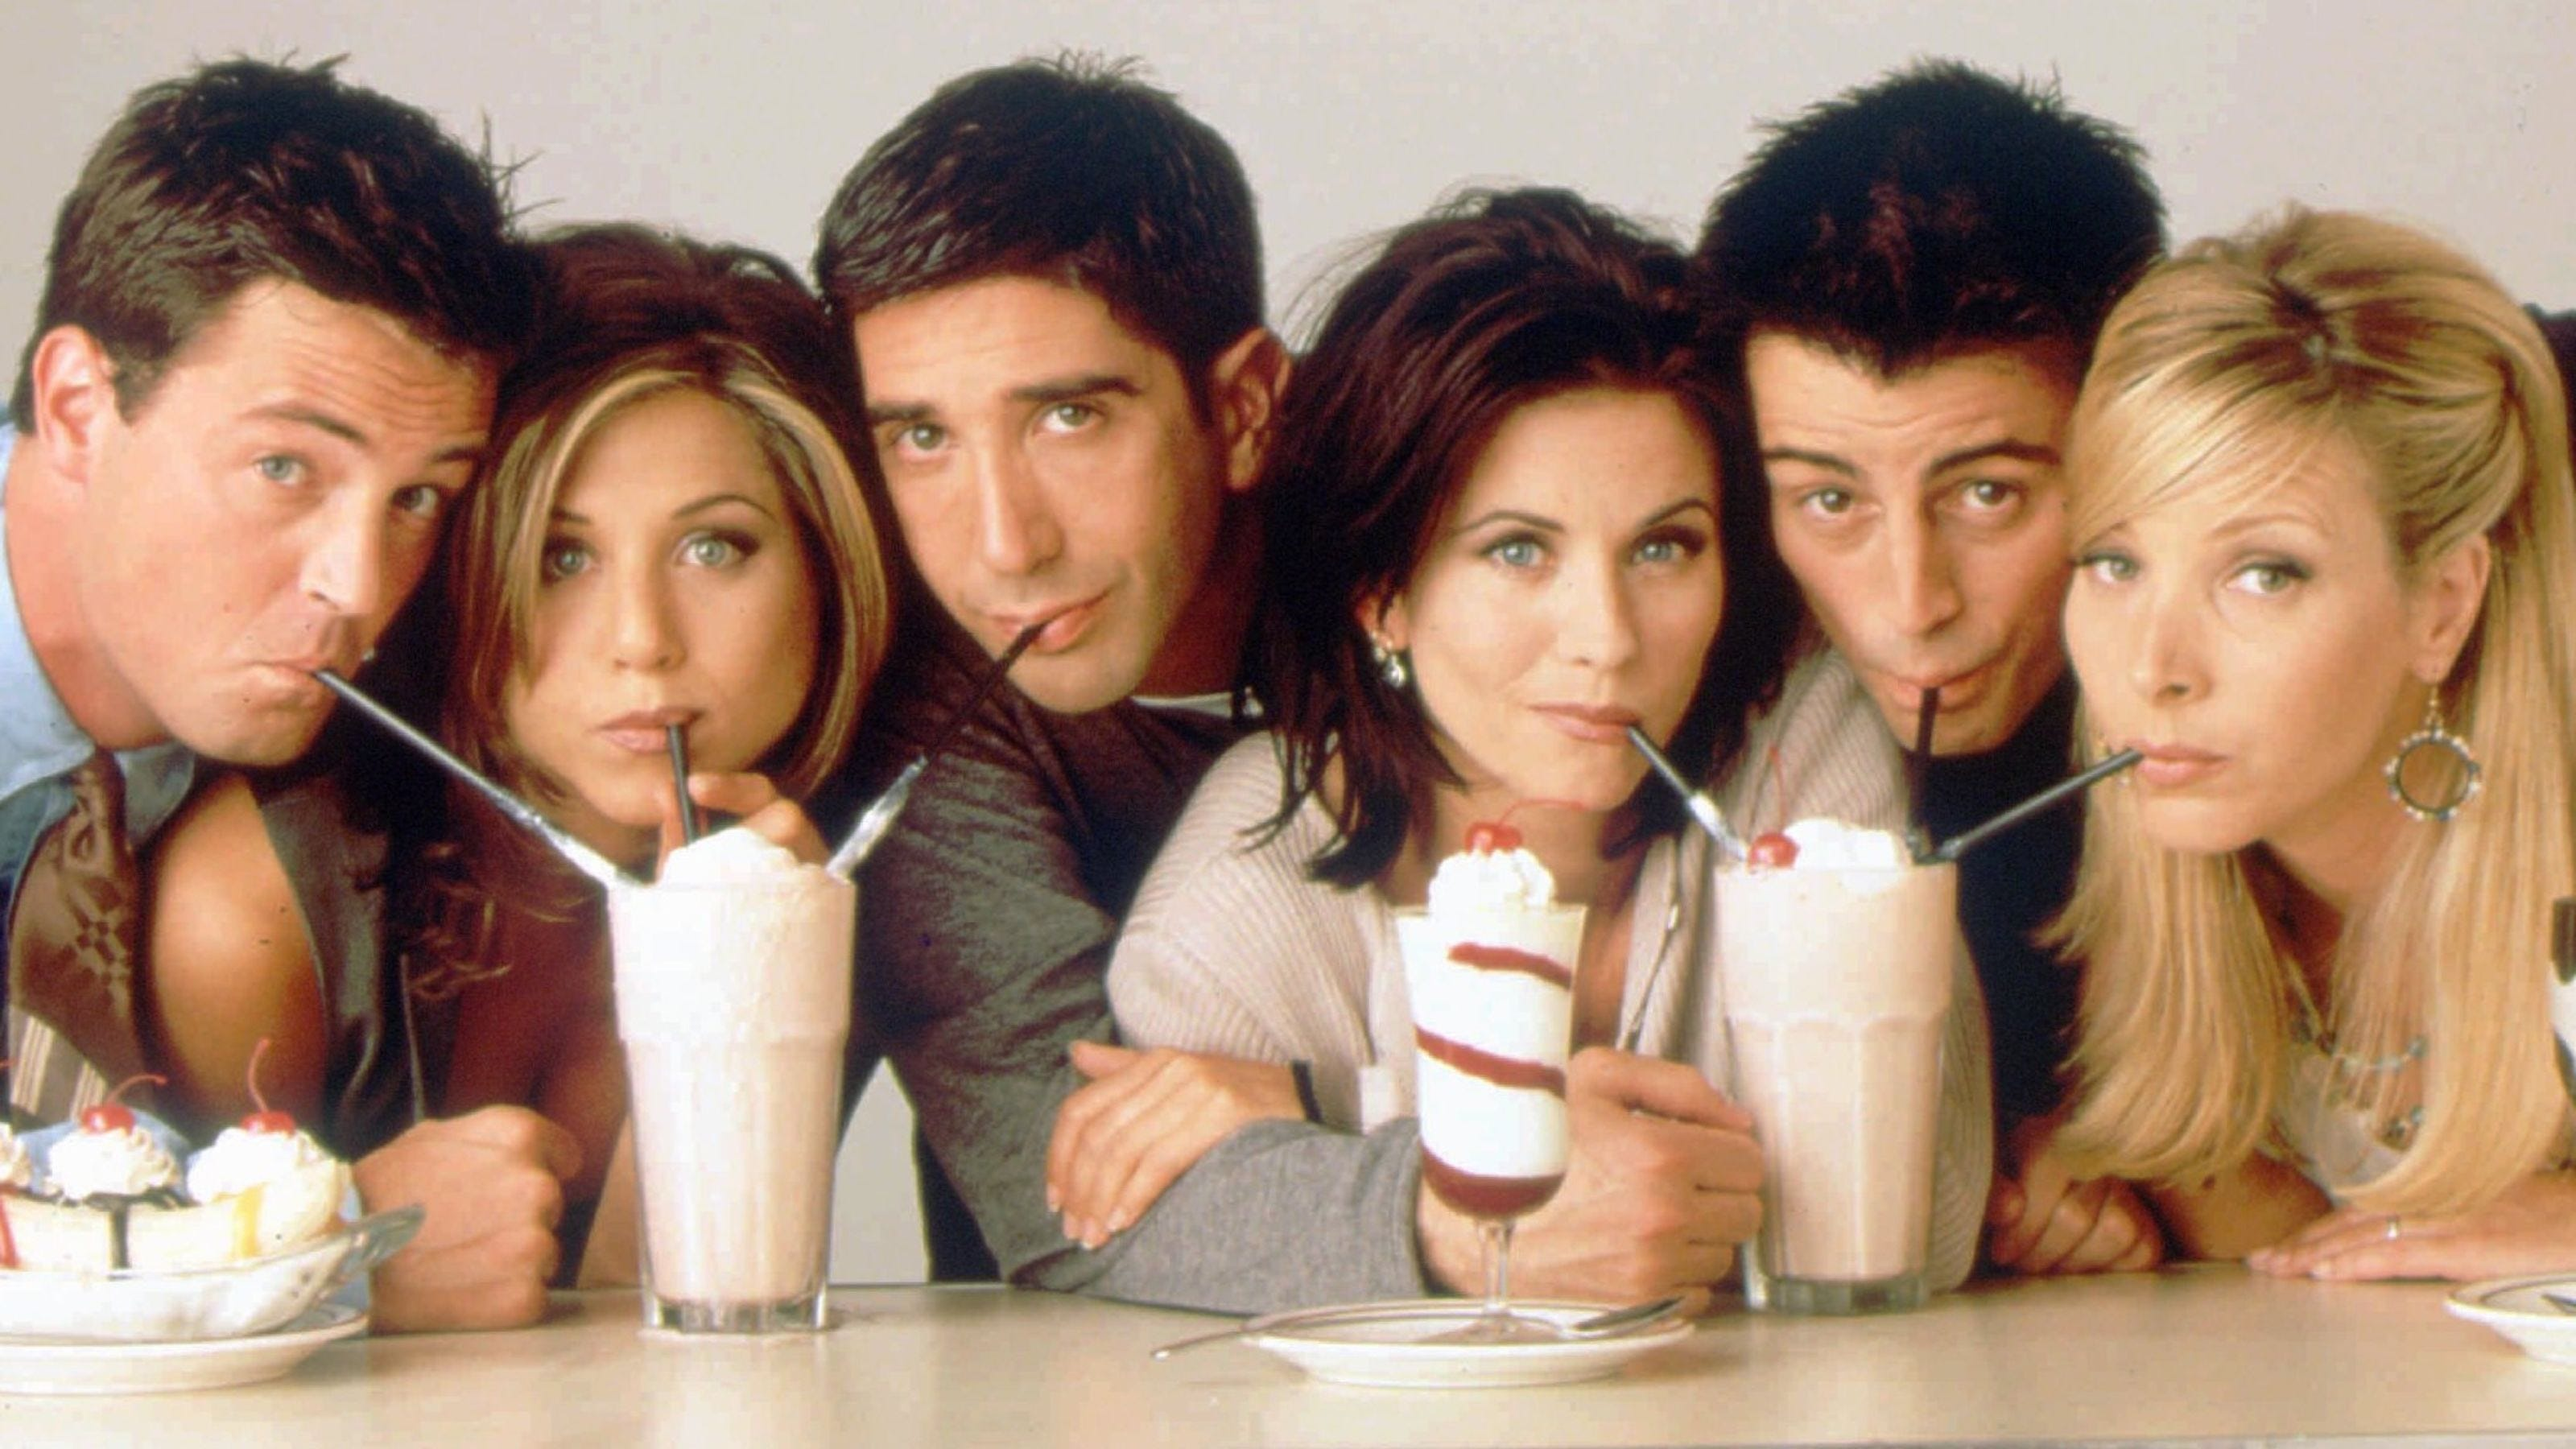bad: (1396, 403, 1769, 777), (858, 322, 1231, 694), (2017, 446, 2388, 817), (510, 474, 819, 786)
